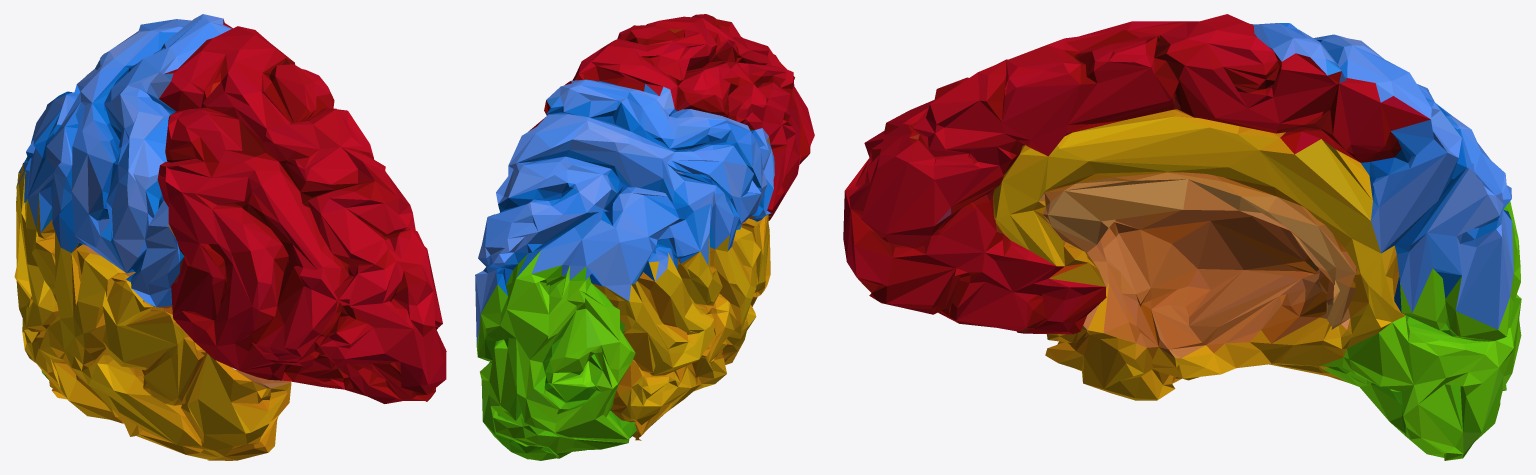
The picture shows the model from 3 angles, left to right: view 1: azimuth 30°, elevation 25°; view 2: azimuth 150°, elevation 25°; view 3: azimuth 270°, elevation 25°; orthographic projection. The views are drawn at different scales.
Parts seen in each view (by area): view 1: left_Mesh.002; view 2: left_Mesh.002; view 3: left_Mesh.002.
Part boxes in pixels (bbox=[...]): left_Mesh.002: bbox=[14, 14, 446, 460]; left_Mesh.002: bbox=[475, 14, 814, 460]; left_Mesh.002: bbox=[843, 14, 1521, 460].
Bounding box in the file's own units: 0.2921 × 0.5502 × 0.7708.
1 material, 1 textured.
